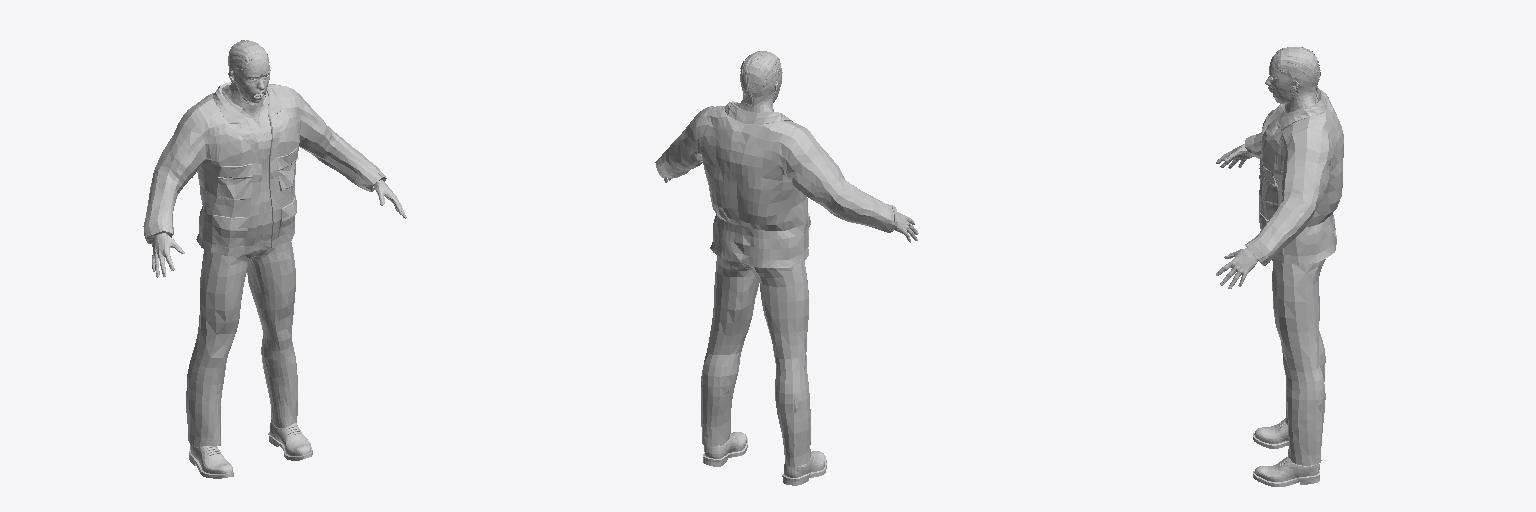
3 renders of one model, left to right at view 1: azimuth 30°, elevation 25°; view 2: azimuth 150°, elevation 25°; view 3: azimuth 270°, elevation 25°, orthographic.
Parts seen in each view (by area): view 1: Ml1:Male_casualsuit05, Ml1:Body, Ml1:Shoes03, Ml1:Short04; view 2: Ml1:Male_casualsuit05, Ml1:Short04, Ml1:Shoes03, Ml1:Body; view 3: Ml1:Male_casualsuit05, Ml1:Body, Ml1:Shoes03, Ml1:Short04.
Boxes of the visible parts, x1=… form: Ml1:Male_casualsuit05: x1=143, y1=82, x2=386, y2=446; Ml1:Body: x1=152, y1=61, x2=406, y2=277; Ml1:Shoes03: x1=189, y1=420, x2=312, y2=478; Ml1:Short04: x1=228, y1=40, x2=269, y2=85; Ml1:Male_casualsuit05: x1=655, y1=101, x2=898, y2=466; Ml1:Short04: x1=740, y1=51, x2=781, y2=107; Ml1:Shoes03: x1=703, y1=432, x2=826, y2=485; Ml1:Body: x1=664, y1=72, x2=918, y2=242; Ml1:Male_casualsuit05: x1=1245, y1=87, x2=1343, y2=465; Ml1:Body: x1=1216, y1=59, x2=1316, y2=288; Ml1:Shoes03: x1=1253, y1=418, x2=1319, y2=486; Ml1:Short04: x1=1272, y1=47, x2=1320, y2=95.
Bounding box in the file's own units: 1.31 × 2.08 × 0.5843.